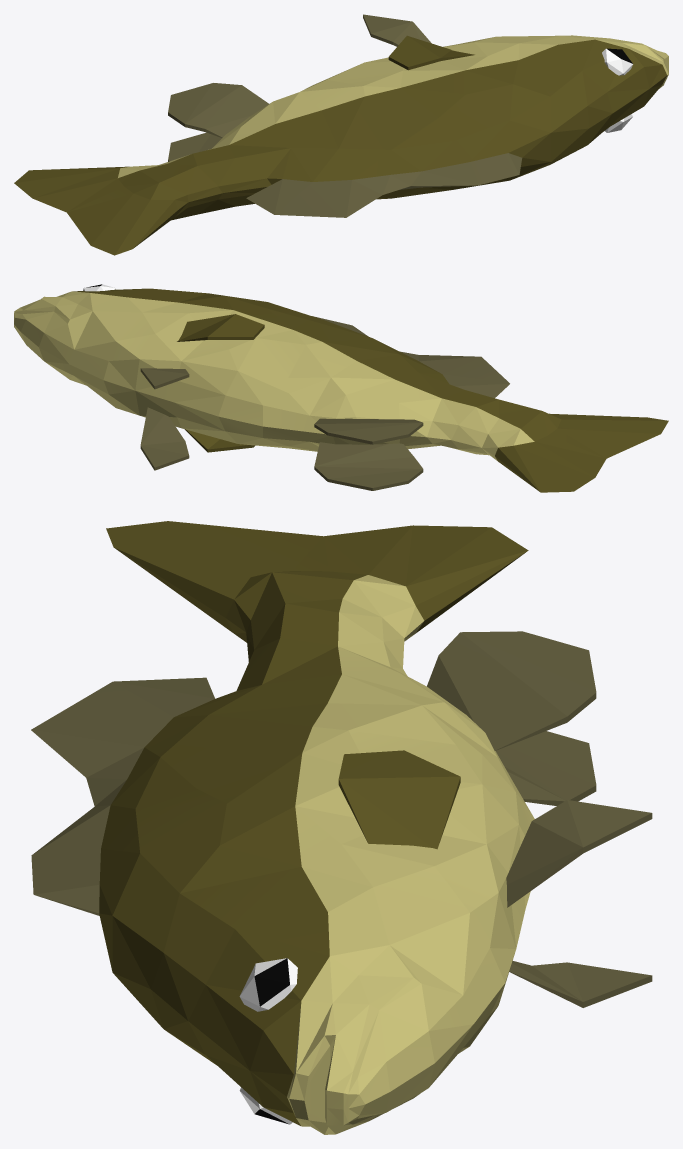
File: Bass.glb
3 renders of one model, top to bottom at view 1: azimuth 30°, elevation 25°; view 2: azimuth 150°, elevation 25°; view 3: azimuth 270°, elevation 25°, orthographic. The views are drawn at different scales.
Parts seen in each view (by area): view 1: Bass; view 2: Bass; view 3: Bass.
Part boxes in pixels (box(x1,y1,x2,y2)): Bass: box(14, 14, 668, 255); Bass: box(14, 284, 668, 492); Bass: box(31, 521, 652, 1134).
Size of the model in its own units: 0.9227 by 0.1691 by 0.4118.
1 material, 1 textured.
